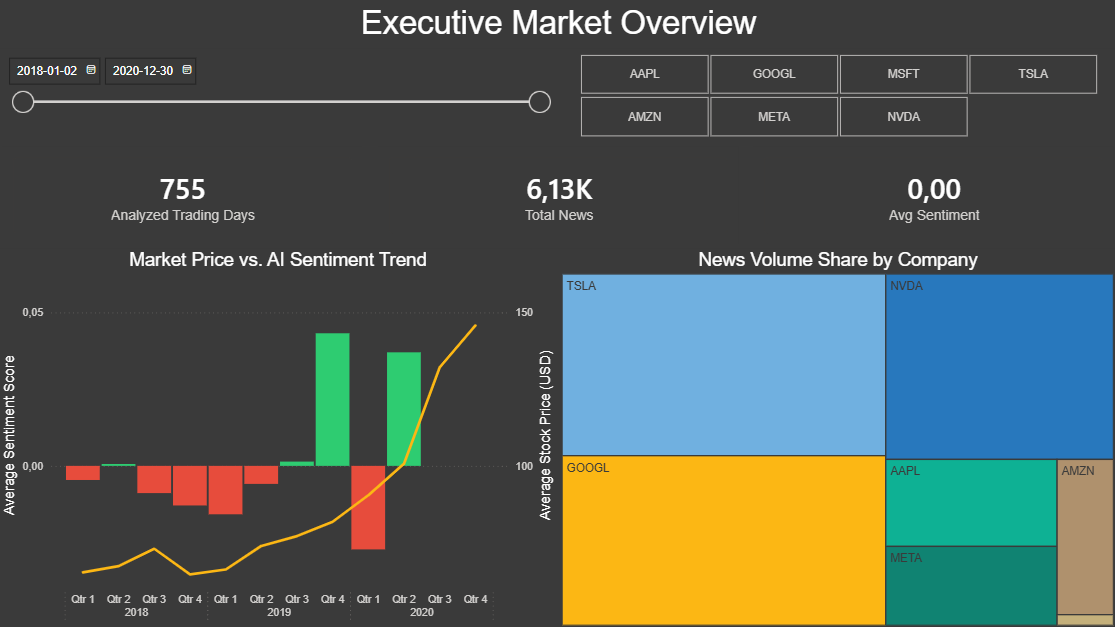

The page's visual inventory and layout, read from the dashboard file:
{"tool":"powerbi","page":{"name":"Executive Market Overview","canvas":[1280,720],"ordinal":0},"visuals":[{"type":"cardVisual","fields":{"Data":["Count(powerbi_dataset.Date)"]},"box":[0,162.9,421.4,121.4],"z":0},{"type":"cardVisual","title":"hlo","fields":{"Data":["powerbi_dataset.Total News"]},"box":[430,162.9,421.4,121.4],"z":1000},{"type":"cardVisual","fields":{"Data":["powerbi_dataset.Avg Sentiment"]},"box":[858.6,162.9,421.4,121.4],"z":2000},{"type":"lineClusteredColumnComboChart","title":"Market Price vs. AI Sentiment Trend","fields":{"Y":["Avg(powerbi_dataset.Avg_Sentiment_Score)"],"Y2":["Avg(powerbi_dataset.Close)"],"Category":["powerbi_dataset.Date.Odmiana.Hierarchia dat.Rok","powerbi_dataset.Date.Odmiana.Hierarchia dat.Kwartał","powerbi_dataset.Date.Odmiana.Hierarchia dat.Miesiąc","powerbi_dataset.Date.Odmiana.Hierarchia dat.Dzień"]},"box":[0,284.4,640,435.6],"z":3000},{"type":"treemap","title":"News Volume Share by Company","fields":{"Group":["powerbi_dataset.Ticker"],"Values":["Sum(powerbi_dataset.Article_Count)"]},"box":[640,284.4,640,435.6],"z":4000},{"type":"textbox","box":[1.4,0,1278.6,55.7],"z":5000},{"type":"slicer","fields":{"Values":["powerbi_dataset.Date"]},"box":[0,55.7,640,107.1],"z":6000},{"type":"slicer","fields":{"Values":["powerbi_dataset.Ticker"]},"box":[640,55.7,640,107.1],"z":7000}]}

Visuals, with their boxes in screenshot pixels (x1, y1, x2, y2), scaled from the page's 1280x720 canvas onto the 1115x627 screenshot:
cardVisual - Count(powerbi_dataset.Date): bbox=(0, 142, 367, 248)
"hlo" cardVisual: bbox=(375, 142, 742, 248)
cardVisual - powerbi_dataset.Avg Sentiment: bbox=(748, 142, 1114, 248)
"Market Price vs. AI Sentiment Trend" lineClusteredColumnComboChart: bbox=(0, 248, 558, 626)
"News Volume Share by Company" treemap: bbox=(558, 248, 1114, 626)
textbox: bbox=(1, 0, 1114, 49)
slicer - powerbi_dataset.Date: bbox=(0, 49, 558, 142)
slicer - powerbi_dataset.Ticker: bbox=(558, 49, 1114, 142)
